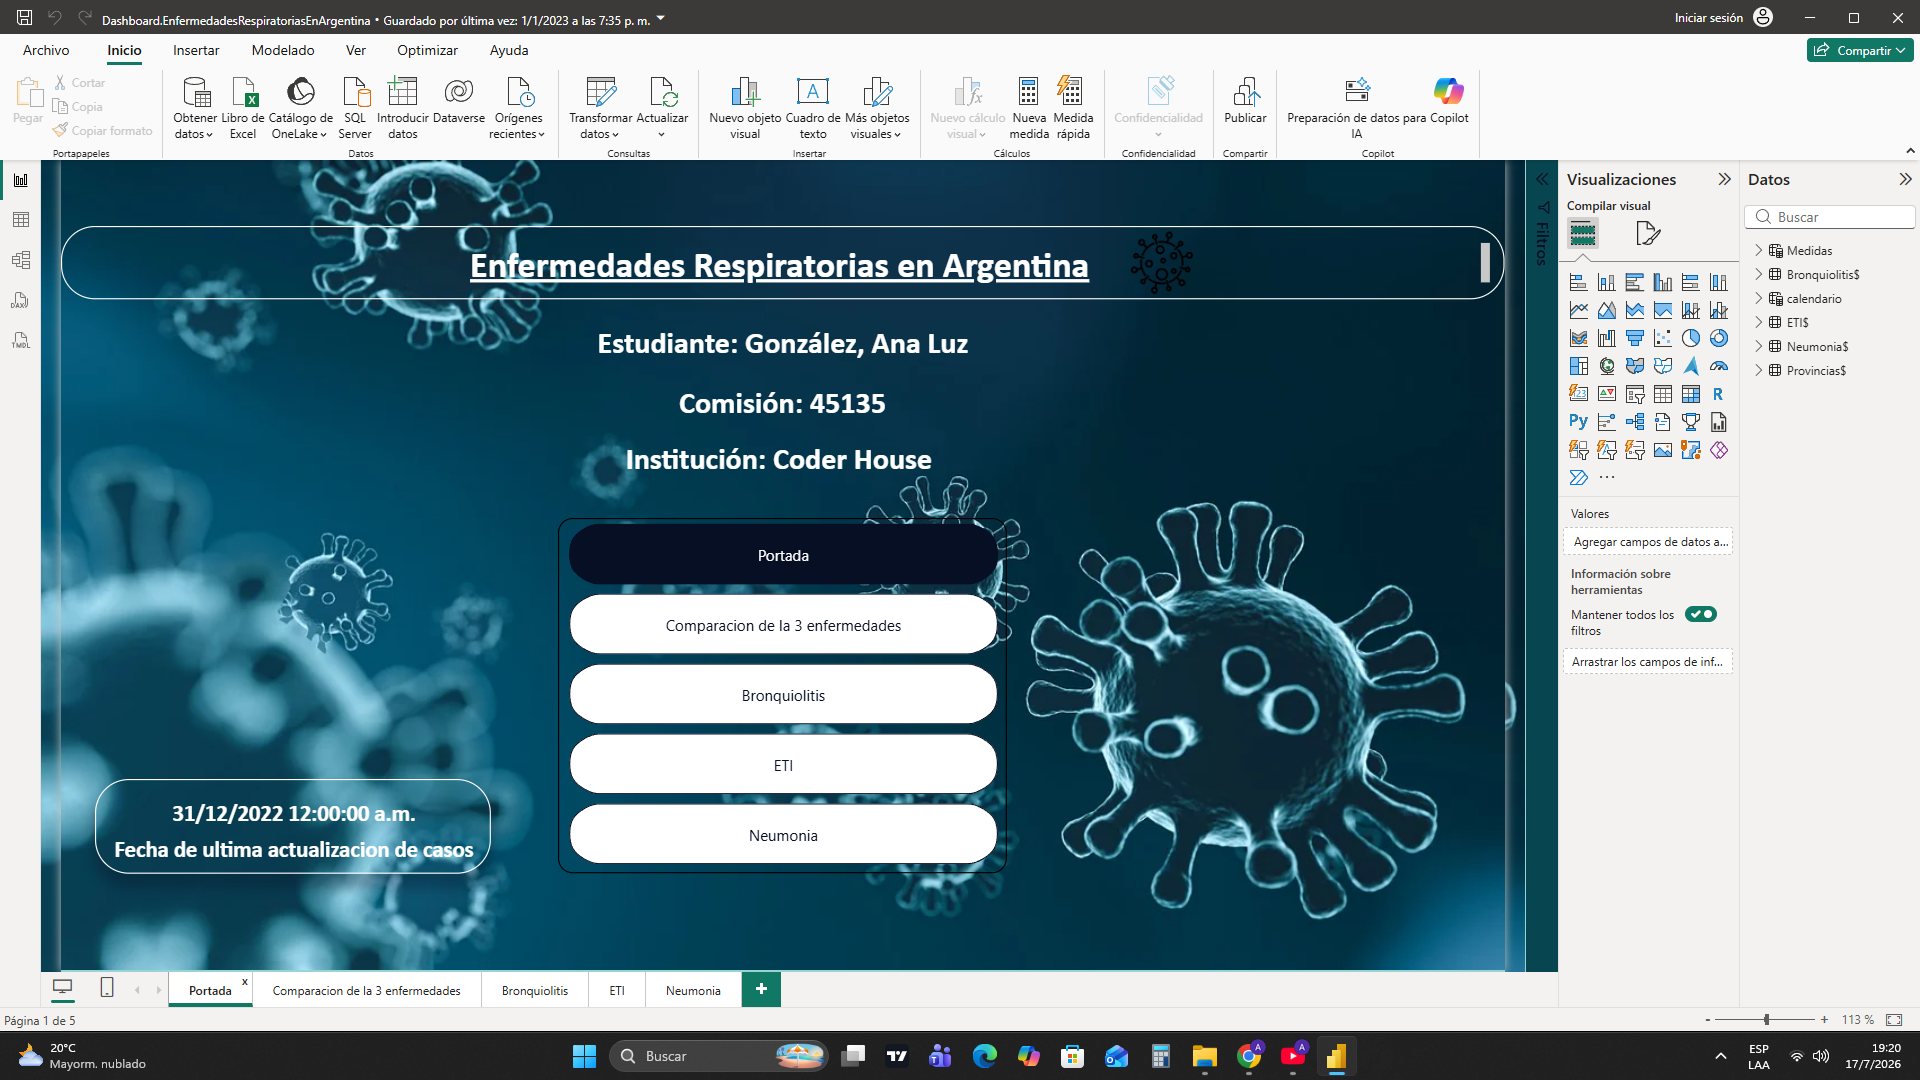

The page's visual inventory and layout, read from the dashboard file:
{"tool":"powerbi","page":{"name":"Portada","canvas":[1280,720],"ordinal":0},"visuals":[{"type":"pageNavigator","box":[440.7,317.4,398.1,314.8],"z":0},{"type":"textbox","box":[459.3,141,361.8,53.2],"z":1000},{"type":"textbox","box":[495.7,243.8,308.6,57.6],"z":2000},{"type":"textbox","box":[514.3,194.2,250.9,49.7],"z":3000},{"type":"textbox","box":[0,58.5,1280.4,64.7],"z":4000},{"type":"card","fields":{"Values":["Medidas.Fecha de ultima actualizacion de casos"]},"box":[30.2,548.6,351.1,83.7],"z":5000},{"type":"image","box":[918.6,58.5,114.4,64.7],"z":5001}]}

Visuals, with their boxes on the page's 1280x720 design canvas (x1, y1, x2, y2). These are canvas units, not pixel positions in the 1920x1080 screenshot, which may show the page scaled, cropped or inside an application window:
pageNavigator: BBox(441, 317, 839, 632)
textbox: BBox(459, 141, 821, 194)
textbox: BBox(496, 244, 804, 301)
textbox: BBox(514, 194, 765, 244)
textbox: BBox(0, 58, 1280, 123)
card - Medidas.Fecha de ultima actualizacion de casos: BBox(30, 549, 381, 632)
image: BBox(919, 58, 1033, 123)
